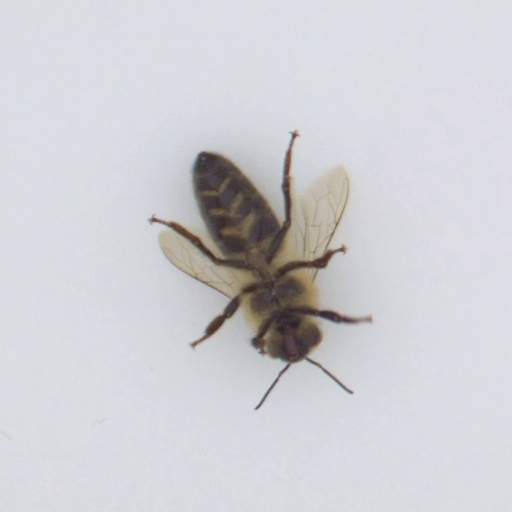Bee: (176, 136, 337, 368)
